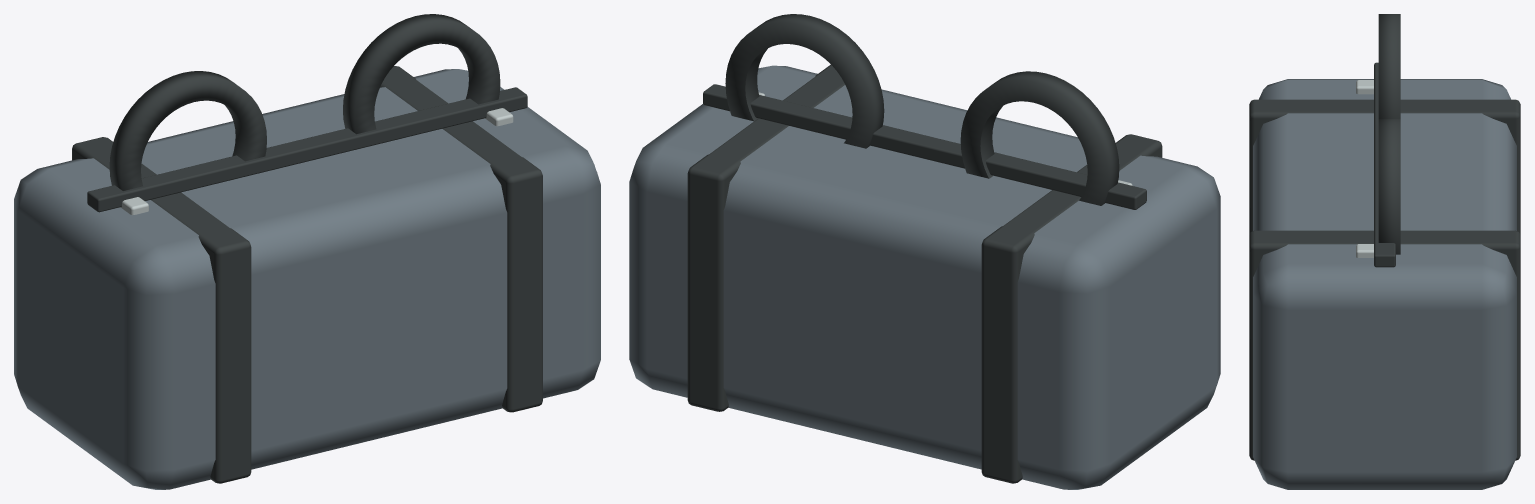
Rendered from mountain-border-checkpoint-mountain-border-checkpoint--bec6315c__30312.glb.
3 views of the same model, side by side, from view 1: azimuth 30°, elevation 25°; view 2: azimuth 150°, elevation 25°; view 3: azimuth 270°, elevation 25° (orthographic). The views are drawn at different scales.
Visible parts, largest first — view 1: mountain-border-checkpoint-duffel-bag; view 2: mountain-border-checkpoint-duffel-bag; view 3: mountain-border-checkpoint-duffel-bag.
Boxes of the visible parts, bbox=[...] form: mountain-border-checkpoint-duffel-bag: bbox=[14, 14, 600, 489]; mountain-border-checkpoint-duffel-bag: bbox=[629, 14, 1220, 489]; mountain-border-checkpoint-duffel-bag: bbox=[1249, 14, 1520, 489].
Bounding box in the file's own units: 0.65 × 0.46 × 0.35.
